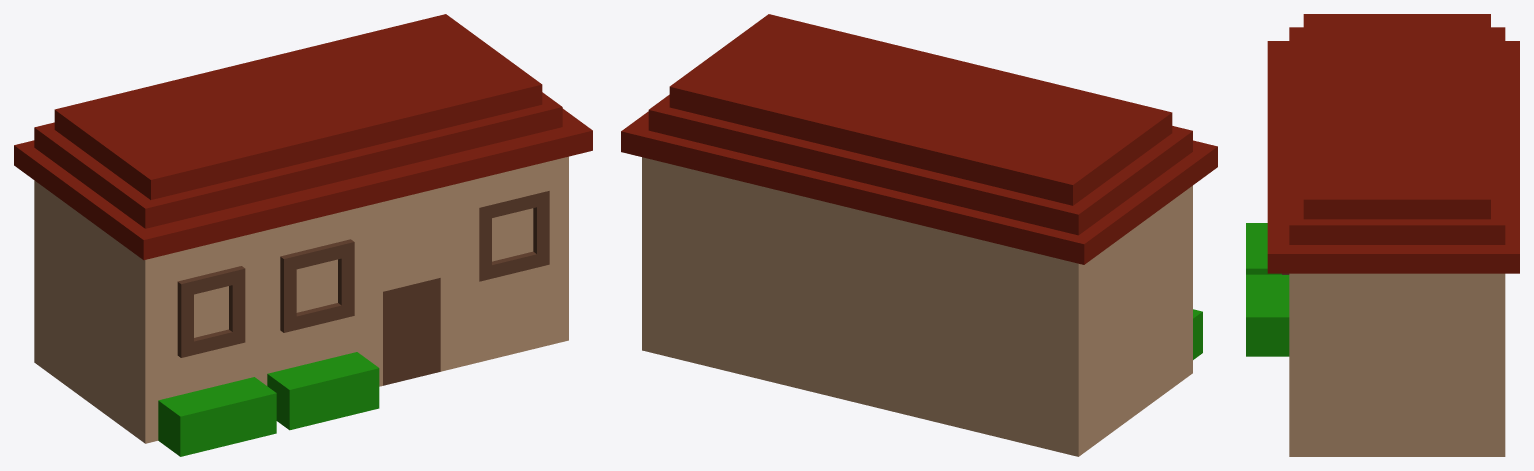
Rendered from house1.obj.
3 renders of one model, left to right at view 1: azimuth 30°, elevation 25°; view 2: azimuth 150°, elevation 25°; view 3: azimuth 270°, elevation 25°, orthographic. The views are drawn at different scales.
Size of the model in its own units: 7 by 3.8 by 3.8.
1 material, 1 textured.
